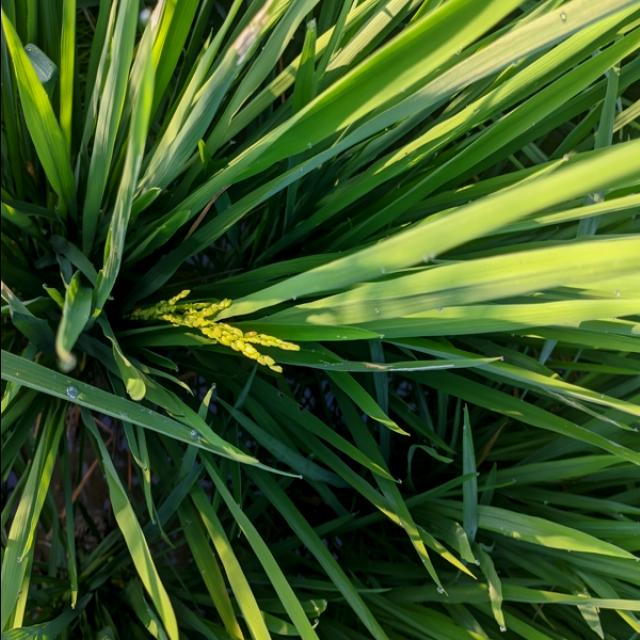Penggulung Daun: (225, 0, 293, 67), (0, 272, 31, 323)
